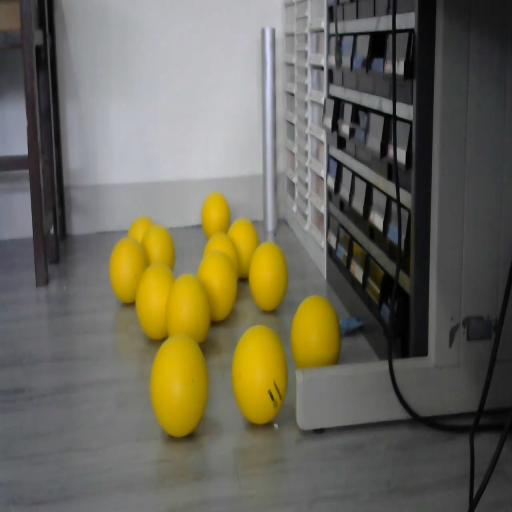FUEL: (149, 332, 209, 436), (231, 324, 288, 424), (290, 294, 341, 370), (165, 274, 211, 347), (248, 240, 289, 310), (109, 236, 147, 304), (202, 232, 240, 278), (201, 192, 231, 238), (128, 216, 154, 246)
